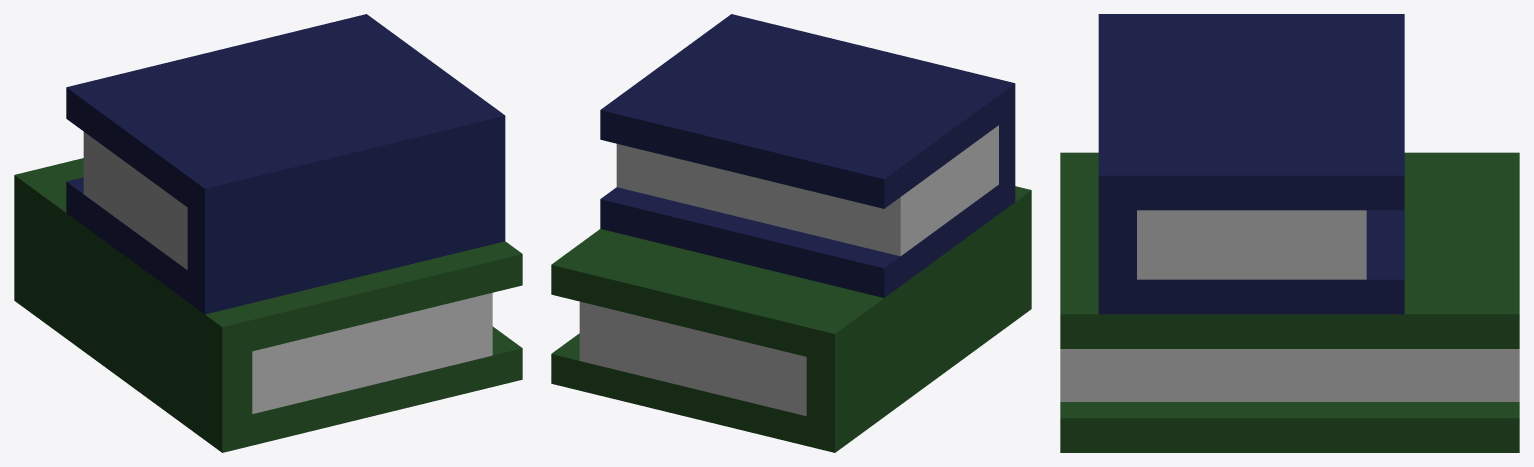
Rendered from books_03.glb.
3 renders of one model, left to right at view 1: azimuth 30°, elevation 25°; view 2: azimuth 150°, elevation 25°; view 3: azimuth 270°, elevation 25°, orthographic. The views are drawn at different scales.
Parts seen in each view (by area): view 1: Untitled; view 2: Untitled; view 3: Untitled.
Boxes of the visible parts, x1=… form: Untitled: x1=14, y1=14, x2=522, y2=452; Untitled: x1=551, y1=14, x2=1031, y2=452; Untitled: x1=1060, y1=14, x2=1519, y2=452.
Size of the model in its own units: 0.3 by 0.24 by 0.36.
1 material, 1 textured.
